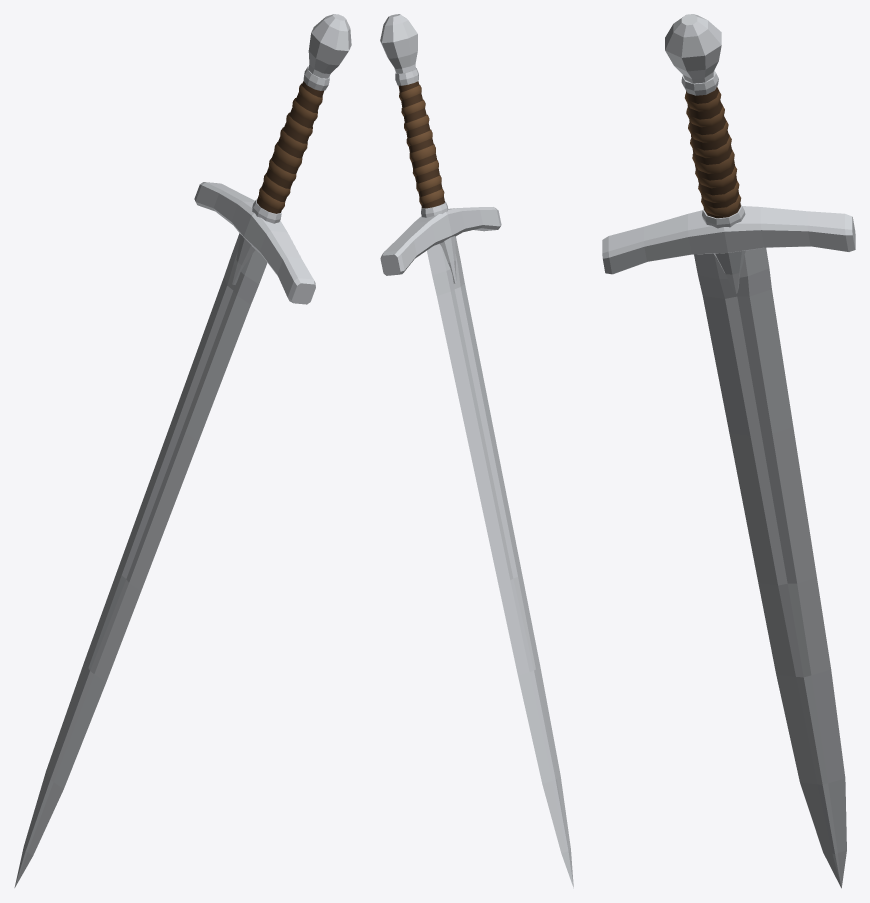
Rendered from Longsword_Base-pcB49IPp.glb.
3 views of the same model, side by side, from view 1: azimuth 30°, elevation 25°; view 2: azimuth 150°, elevation 25°; view 3: azimuth 270°, elevation 25° (orthographic). The views are drawn at different scales.
Parts seen in each view (by area): view 1: Longsword_Base.001; view 2: Longsword_Base.001; view 3: Longsword_Base.001.
Boxes of the visible parts, x1,y1,x2,y2 form: Longsword_Base.001: (14,14,351,887); Longsword_Base.001: (380,14,573,888); Longsword_Base.001: (602,14,855,888).
Size of the model in its own units: 0.3268 by 0.9867 by 0.2213.
